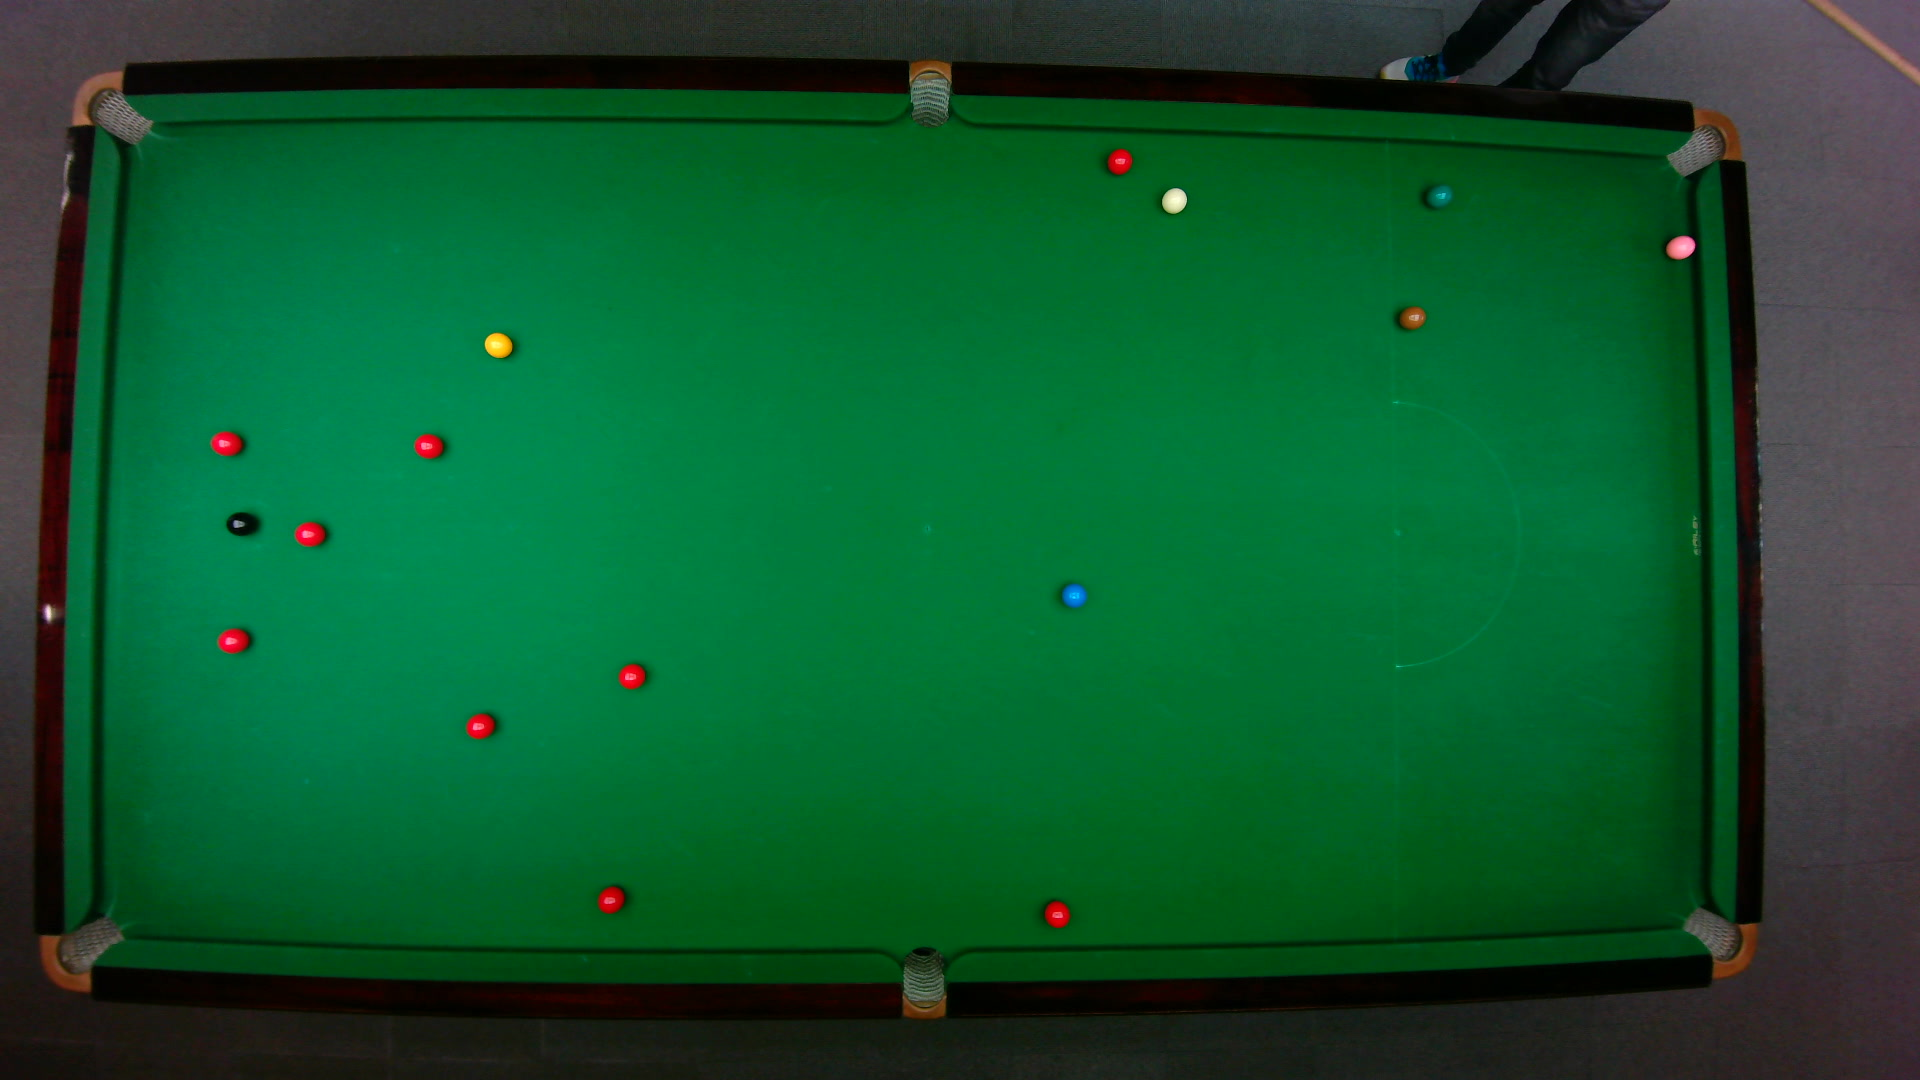bag: (37, 914, 125, 992), (69, 69, 152, 145), (1679, 905, 1756, 978), (1663, 107, 1742, 177), (901, 944, 945, 1021), (909, 57, 949, 128)
black: (223, 509, 256, 535)
blue: (1059, 582, 1087, 608)
brown: (1396, 305, 1427, 330)
green: (1423, 182, 1453, 208)
pink: (1663, 232, 1697, 260)
red: (208, 429, 244, 456), (463, 711, 496, 740), (291, 520, 326, 547), (215, 626, 251, 653), (411, 431, 444, 459), (1042, 899, 1071, 928), (616, 661, 646, 688), (1105, 146, 1133, 175)
white: (1159, 185, 1188, 215)
yellow: (481, 328, 513, 357), (595, 884, 625, 913)
zone: (1390, 400, 1520, 669)
